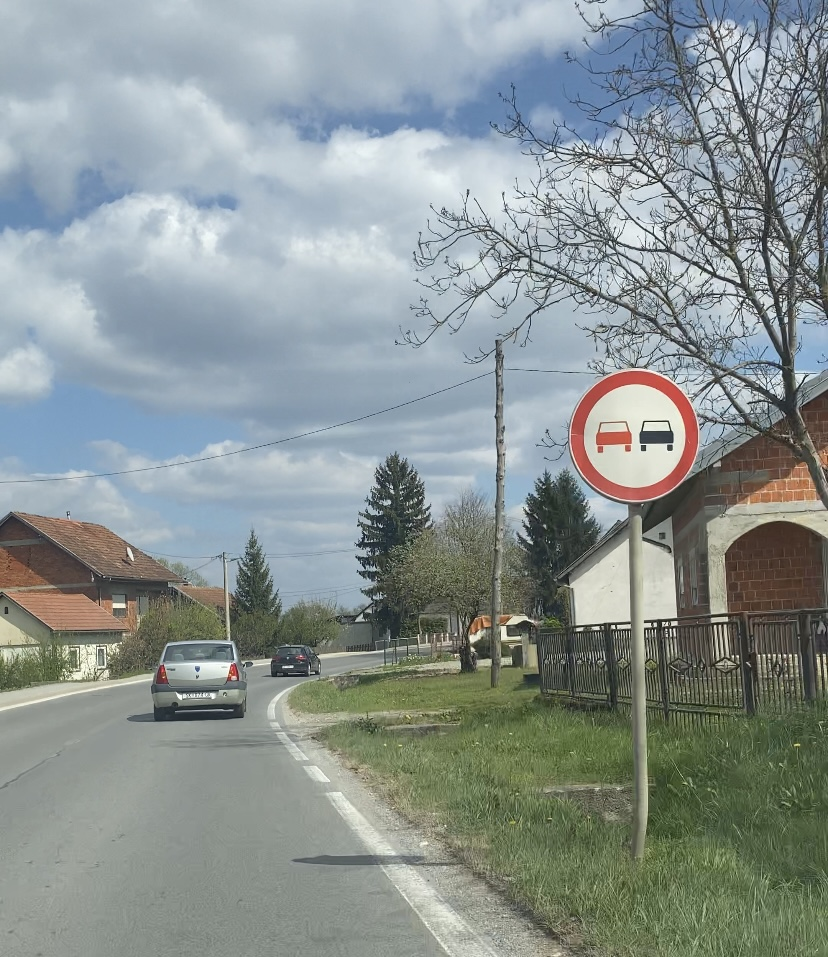Zabrana pretjecanja: (569, 368, 699, 504)
